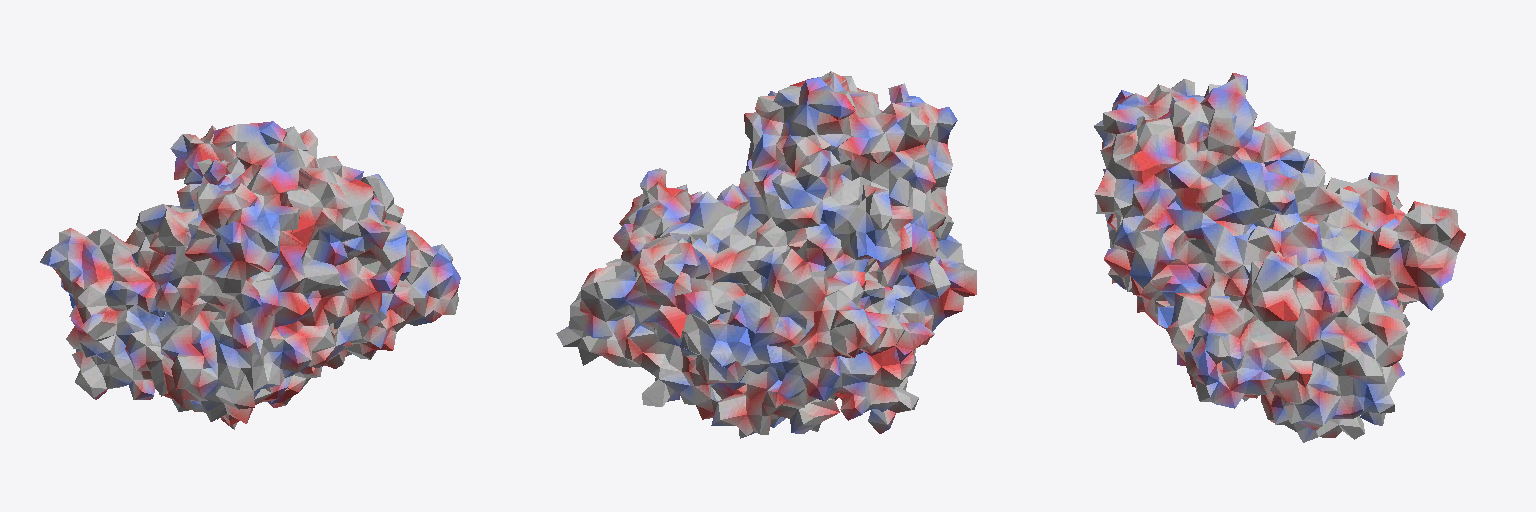
3 renders of one model, left to right at view 1: azimuth 30°, elevation 25°; view 2: azimuth 150°, elevation 25°; view 3: azimuth 270°, elevation 25°, orthographic.
Parts seen in each view (by area): view 1: Polygon_3mrv; view 2: Polygon_3mrv; view 3: Polygon_3mrv.
Boxes of the visible parts, x1,y1,x2,y2 form: Polygon_3mrv: [40, 121, 460, 429]; Polygon_3mrv: [556, 71, 976, 438]; Polygon_3mrv: [1094, 73, 1465, 442].
Bounding box in the file's own units: 8.33 × 7.48 × 7.93.
1 materials, 1 textured.